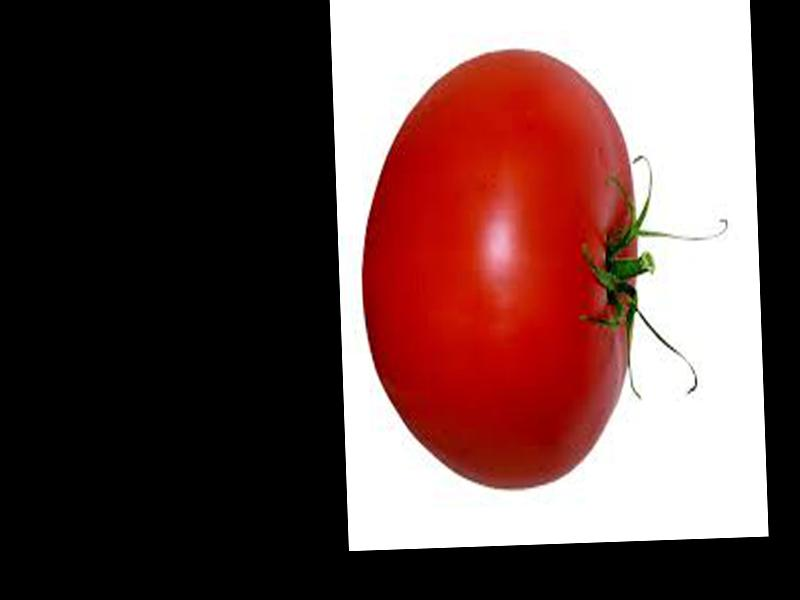Tomato: (355, 49, 645, 490)
